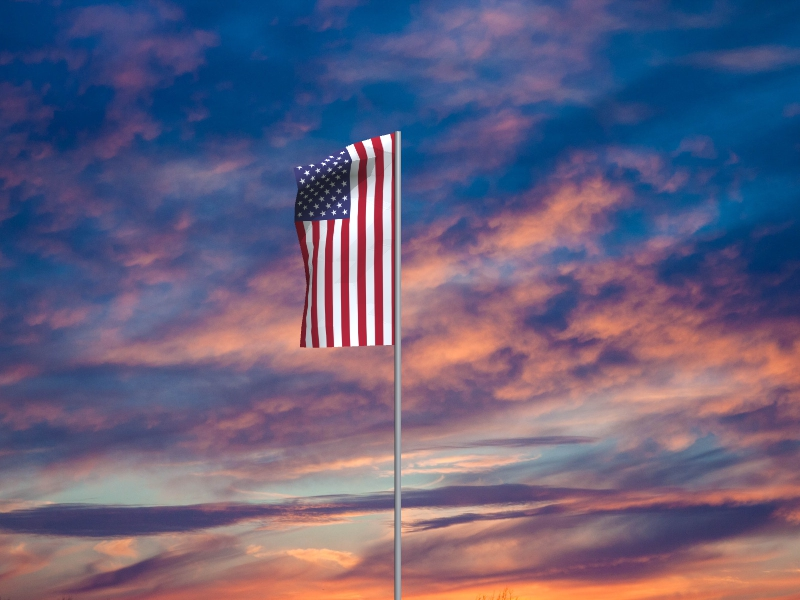us: (294, 134, 395, 349)
